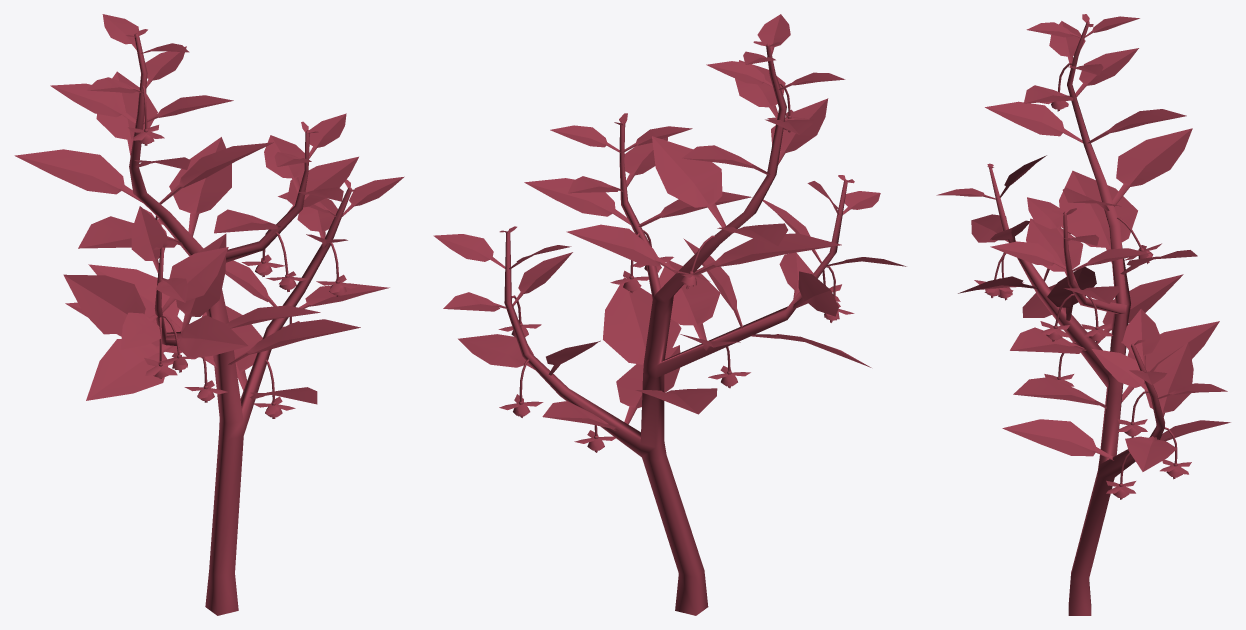
File: SM_Blooddrop_Growing5.fbx
The picture shows the model from 3 angles, left to right: view 1: azimuth 30°, elevation 25°; view 2: azimuth 150°, elevation 25°; view 3: azimuth 270°, elevation 25°; orthographic projection. The views are drawn at different scales.
Parts seen in each view (by area): view 1: SM_Blooddrop_Growing5; view 2: SM_Blooddrop_Growing5; view 3: SM_Blooddrop_Growing5.
Part boxes in pixels (x1,y1,x2,y2): SM_Blooddrop_Growing5: (14, 14, 404, 615); SM_Blooddrop_Growing5: (433, 14, 906, 615); SM_Blooddrop_Growing5: (936, 14, 1230, 615).
Bounding box in the file's own units: 55.38 × 82.49 × 39.84.
